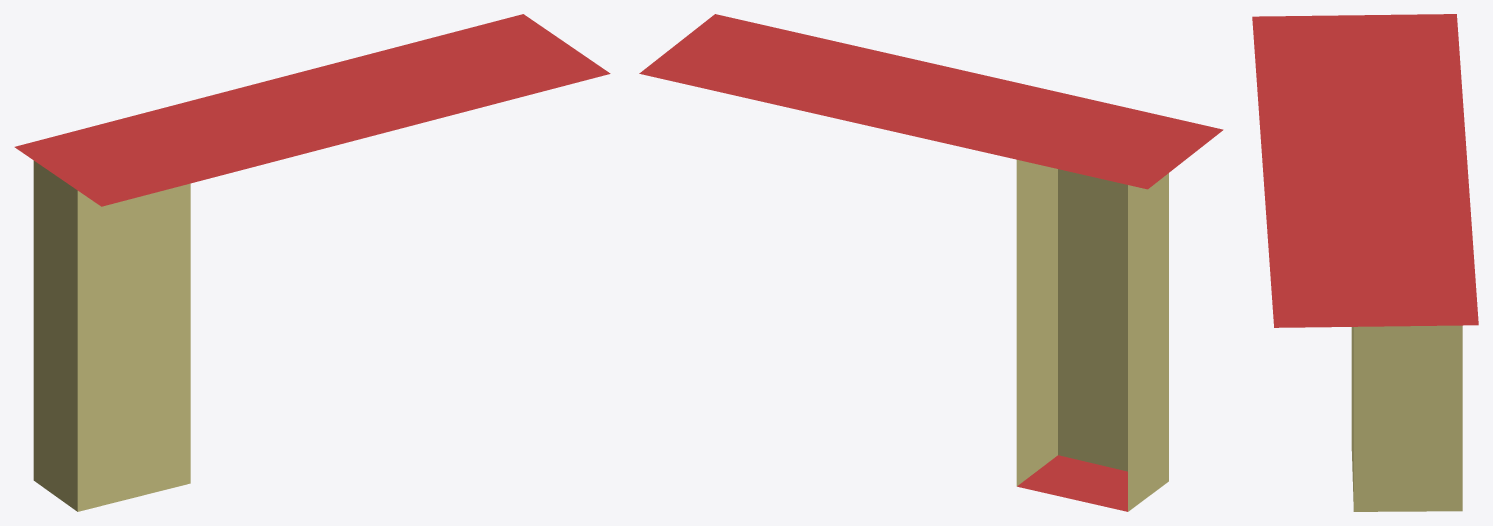
3 views of the same model, side by side, from view 1: azimuth 30°, elevation 25°; view 2: azimuth 150°, elevation 25°; view 3: azimuth 270°, elevation 25° (orthographic). The views are drawn at different scales.
Bounding box in the file's own units: 16.03 × 4.89 × 9.93.
